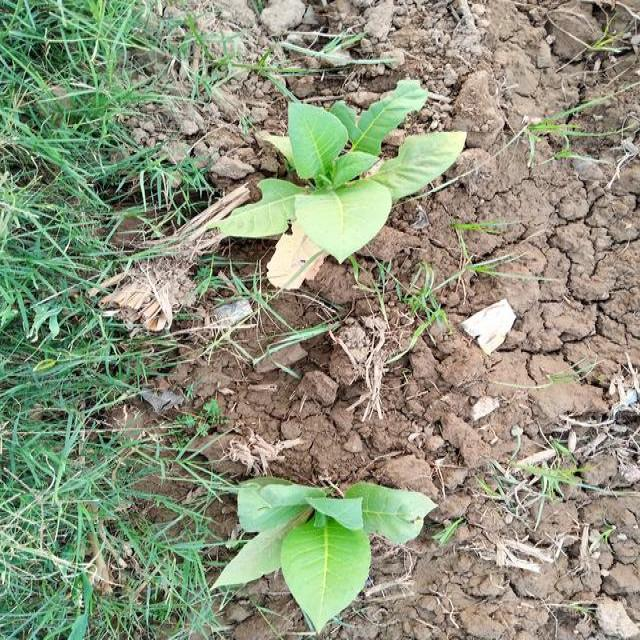crop: (225, 95, 467, 281), (234, 482, 431, 620)
